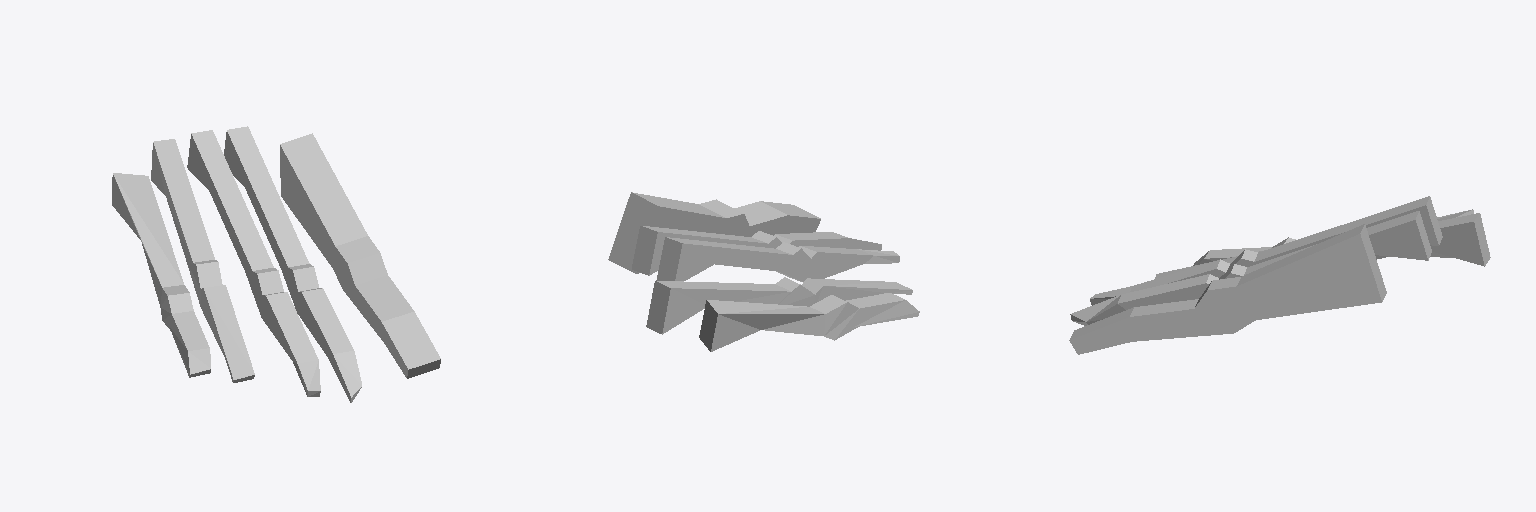
Rendered from doigts_pied_right.obj.
3 renders of one model, left to right at view 1: azimuth 30°, elevation 25°; view 2: azimuth 150°, elevation 25°; view 3: azimuth 270°, elevation 25°, orthographic.
Parts seen in each view (by area): view 1: R_TOES01_R_TOES01_WHITE_BONE; view 2: R_TOES01_R_TOES01_WHITE_BONE; view 3: R_TOES01_R_TOES01_WHITE_BONE.
Part boxes in pixels (left/top/right/bottom): R_TOES01_R_TOES01_WHITE_BONE: left=112, top=126, right=440, bottom=402; R_TOES01_R_TOES01_WHITE_BONE: left=608, top=192, right=919, bottom=351; R_TOES01_R_TOES01_WHITE_BONE: left=1069, top=196, right=1490, bottom=354.
Bounding box in the file's own units: 4.46 × 2.72 × 7.47.